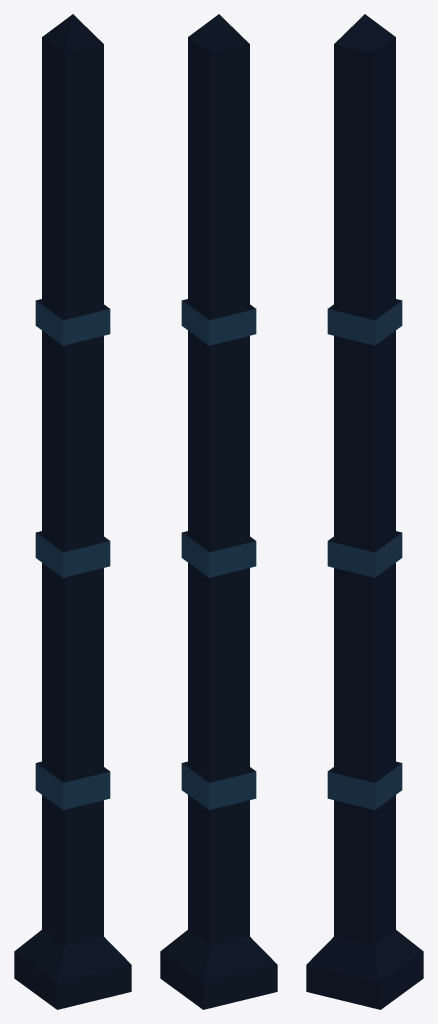
File: border.glb
3 renders of one model, left to right at view 1: azimuth 30°, elevation 25°; view 2: azimuth 210°, elevation 25°; view 3: azimuth 330°, elevation 25°, orthographic.
Parts seen in each view (by area): view 1: Box; view 2: Box; view 3: Box.
Part boxes in pixels (left/top/right/bottom): Box: left=14, top=14, right=131, bottom=1009; Box: left=160, top=14, right=277, bottom=1009; Box: left=306, top=14, right=423, bottom=1009.
Size of what is drawn, in the model's own units: 0.4603 by 5.76 by 0.4603.
Materials: 1 (1 with a texture image).
